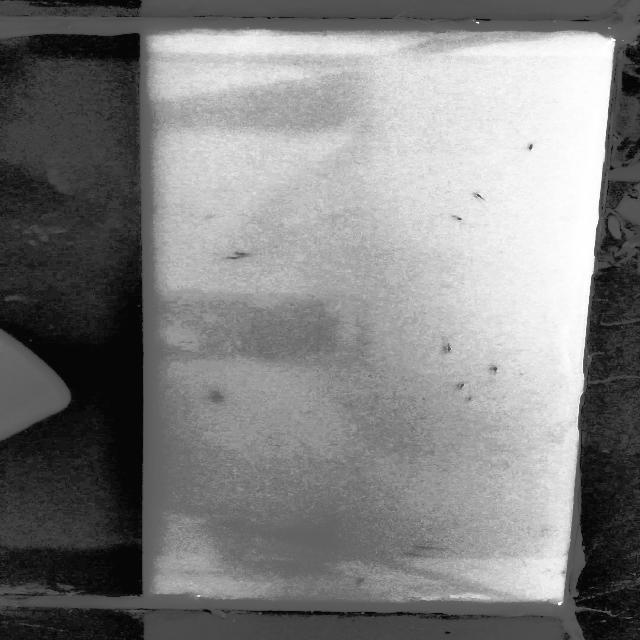shrimp: (358, 576, 382, 594), (468, 190, 498, 204), (394, 549, 436, 558), (444, 212, 472, 222), (410, 544, 444, 552), (218, 254, 259, 260), (522, 141, 544, 152), (209, 392, 231, 399), (452, 382, 472, 389), (440, 345, 458, 352), (230, 250, 250, 256), (492, 366, 504, 374)
